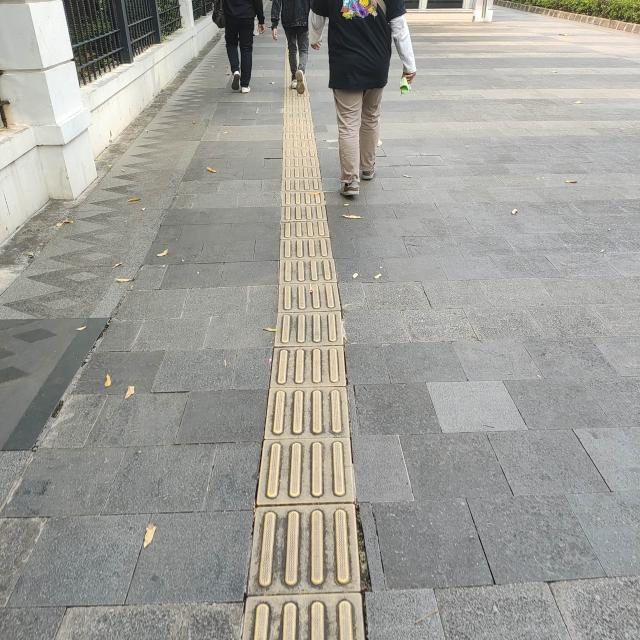lurus: (260, 113, 353, 640)
